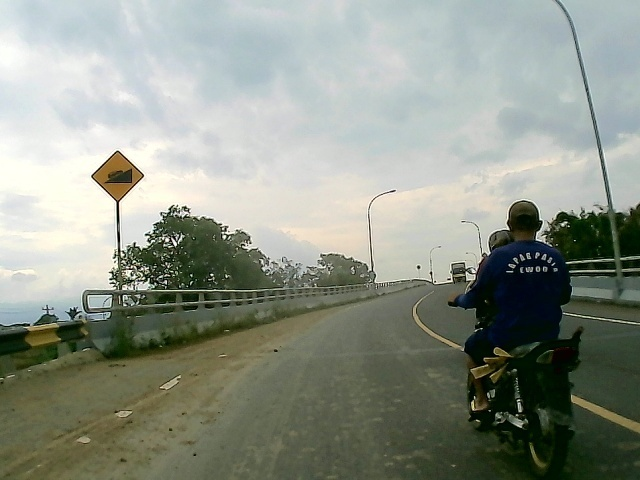Jalanan menanjak: (89, 148, 146, 204)
